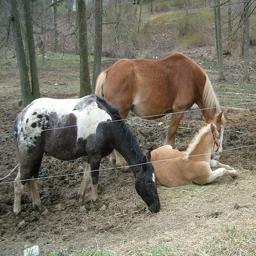horse: (42, 141, 256, 256), (128, 78, 256, 256), (171, 186, 256, 256)
